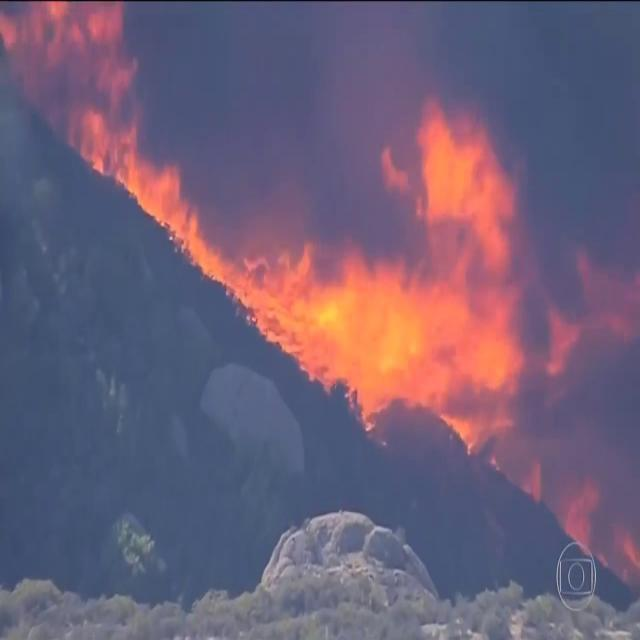Fire: (9, 11, 510, 428)
